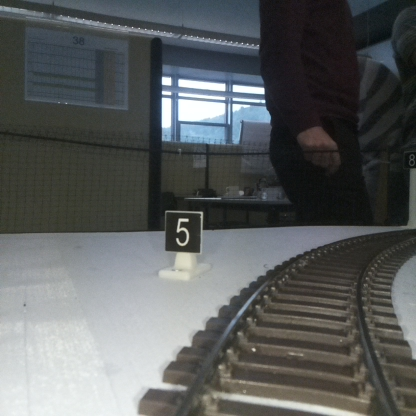black-stop-5: (164, 211, 202, 277)
